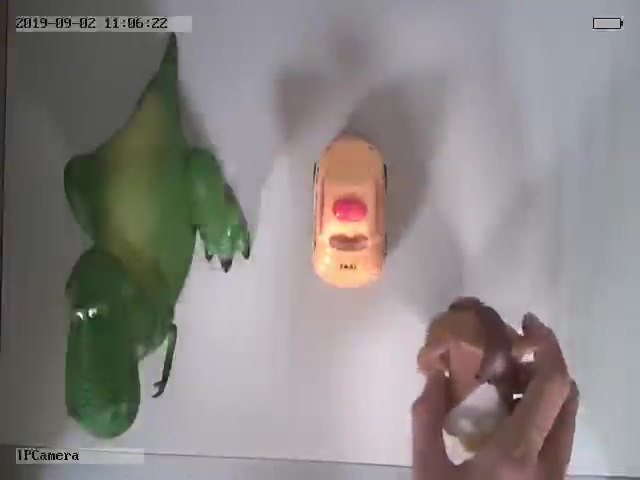car: (310, 136, 387, 287)
rex: (61, 47, 249, 438)
